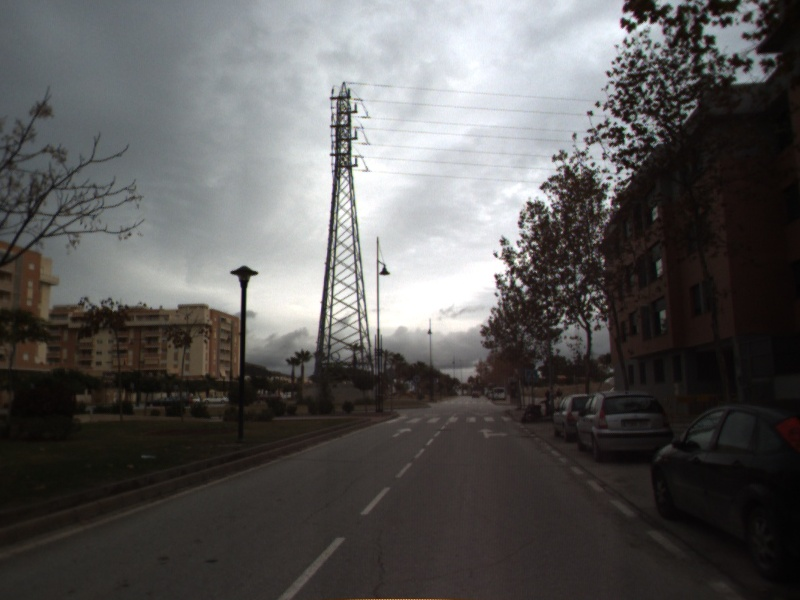STRAIGHT: (390, 425, 414, 439)
STRAIGHT_RIGHT: (476, 425, 511, 440)
